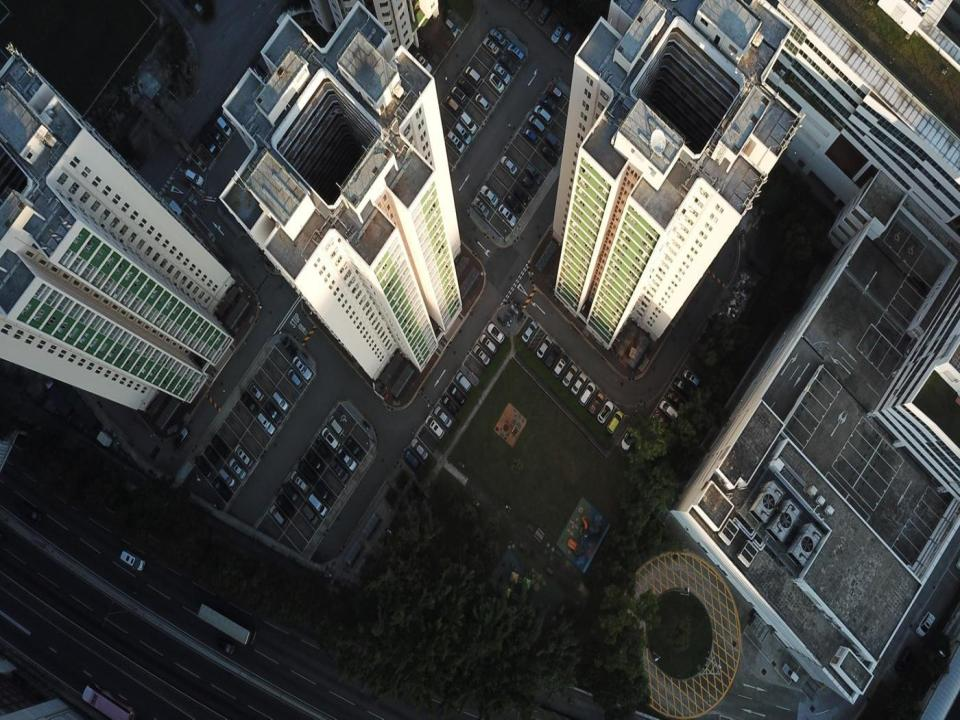bus: (197, 605, 258, 648), (82, 682, 139, 717)
car: (292, 356, 313, 381), (916, 611, 935, 638), (314, 482, 335, 506), (552, 353, 571, 378), (425, 415, 444, 439), (433, 406, 452, 430), (447, 382, 465, 407), (234, 445, 253, 468), (338, 447, 357, 470), (472, 198, 491, 221), (297, 461, 315, 485), (525, 162, 543, 186), (579, 382, 596, 407), (480, 184, 499, 206), (472, 344, 491, 366), (521, 320, 538, 344), (562, 364, 578, 389), (538, 93, 558, 113), (257, 414, 276, 435), (241, 393, 260, 414), (331, 460, 349, 482), (322, 426, 340, 448), (498, 204, 516, 226), (504, 194, 522, 216), (570, 373, 588, 395), (479, 334, 497, 356), (544, 346, 561, 369), (588, 392, 604, 416), (537, 336, 553, 360), (228, 459, 246, 480), (306, 450, 324, 471), (212, 436, 229, 458), (508, 42, 525, 64), (488, 322, 505, 344), (500, 156, 518, 176), (402, 448, 420, 468), (540, 146, 558, 166), (315, 438, 332, 459), (455, 372, 472, 393), (202, 136, 218, 158), (217, 638, 239, 654), (415, 53, 431, 75), (513, 184, 529, 206), (272, 391, 290, 410), (494, 63, 512, 82), (489, 28, 507, 47), (345, 439, 362, 459), (499, 55, 516, 75), (668, 391, 685, 411), (248, 381, 264, 402), (411, 439, 427, 460), (598, 400, 612, 424), (489, 72, 505, 92), (683, 368, 699, 388), (458, 76, 473, 97), (519, 173, 534, 194), (550, 23, 565, 44), (608, 411, 622, 433), (186, 170, 204, 187), (267, 404, 283, 423), (483, 36, 499, 55), (622, 426, 635, 449), (546, 82, 563, 99), (28, 507, 44, 525), (522, 126, 538, 144), (442, 397, 458, 415), (673, 376, 688, 395), (537, 4, 552, 23), (213, 481, 230, 497), (450, 87, 465, 105), (476, 92, 489, 112), (175, 428, 188, 447), (653, 409, 666, 428), (561, 27, 574, 46), (211, 130, 224, 146), (520, 0, 530, 10)
van: (659, 399, 681, 423), (121, 550, 145, 571), (308, 493, 329, 516), (275, 495, 294, 520), (291, 470, 310, 493), (195, 455, 213, 479), (283, 482, 301, 506), (302, 503, 319, 528), (205, 446, 222, 470), (460, 110, 478, 132), (455, 122, 471, 146), (545, 132, 564, 152), (447, 130, 464, 152), (534, 104, 552, 124), (270, 505, 286, 527), (328, 415, 344, 436), (216, 117, 232, 136), (530, 115, 546, 134), (219, 468, 236, 485), (288, 369, 303, 388), (465, 66, 481, 82), (445, 97, 459, 112), (446, 18, 457, 37)
